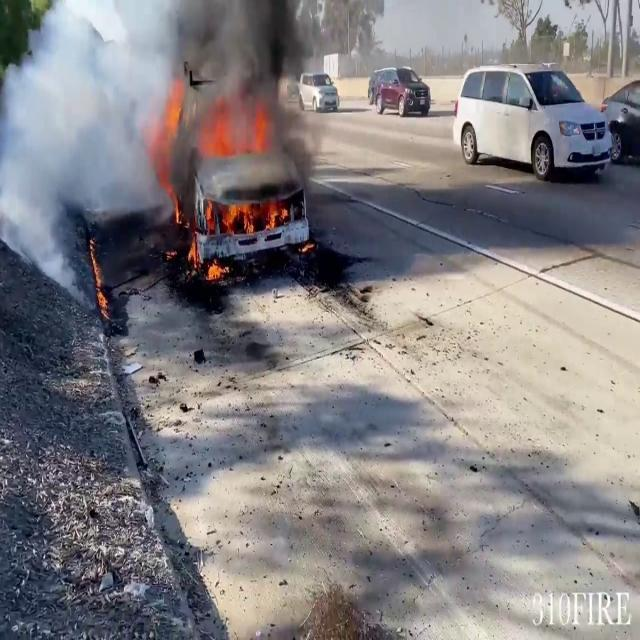Smoke: (0, 0, 318, 252)
